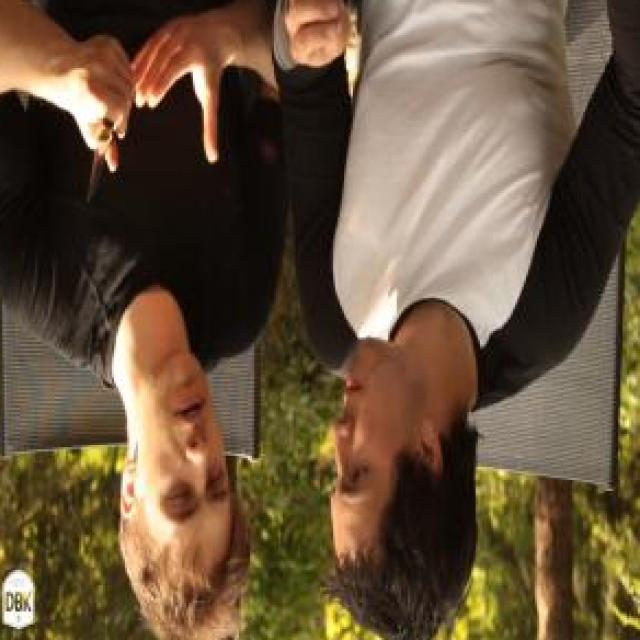knife: (72, 66, 137, 230)
